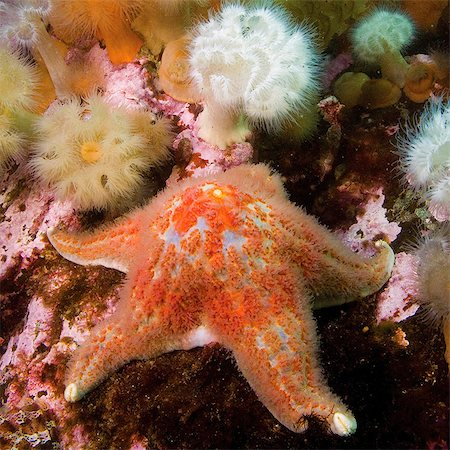starfish: (36, 150, 387, 415)
